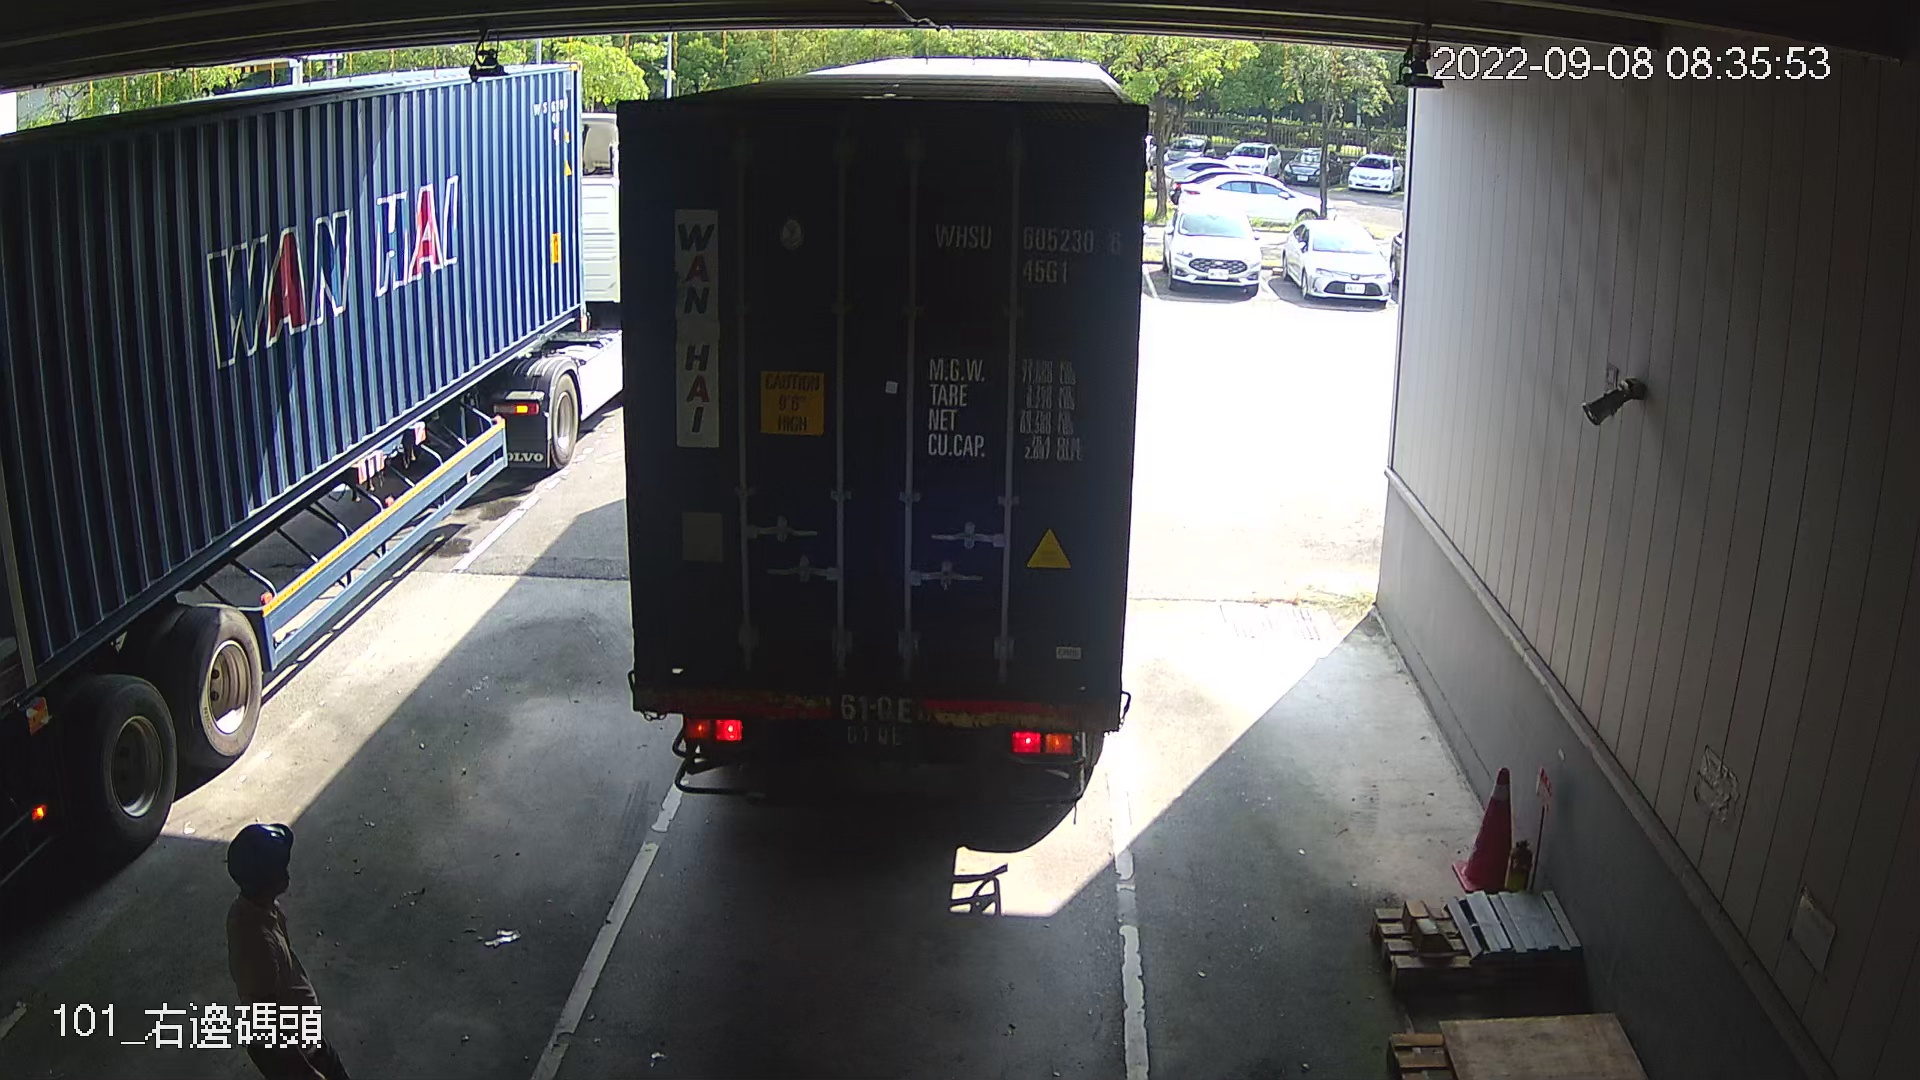container: (922, 210, 1131, 294)
